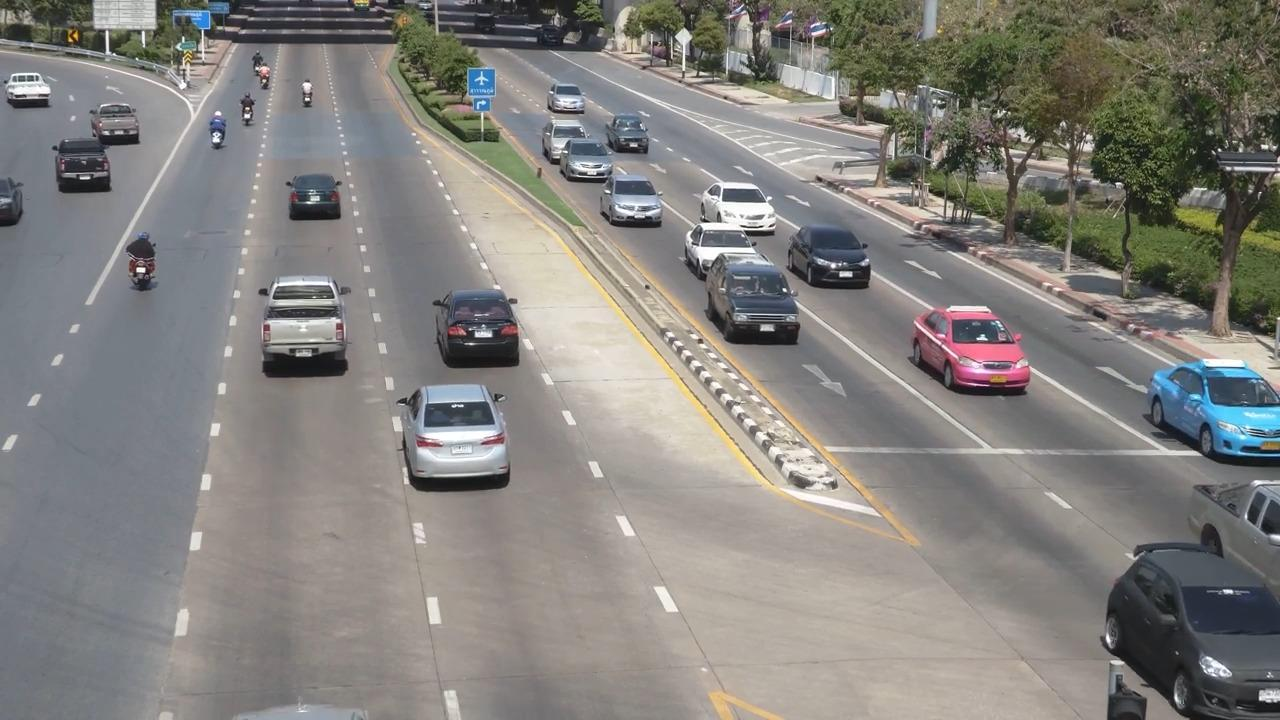CAR: (1083, 541, 1280, 720), (1135, 351, 1279, 473), (395, 379, 526, 502), (908, 293, 1037, 407), (249, 268, 356, 387), (426, 272, 536, 371), (775, 214, 885, 292), (703, 255, 799, 342), (41, 127, 118, 203), (692, 170, 774, 239), (276, 161, 348, 236), (680, 209, 754, 269), (598, 169, 665, 233), (8, 61, 63, 121), (554, 135, 613, 188), (85, 93, 145, 144), (600, 111, 659, 162), (536, 115, 589, 162), (543, 80, 594, 123)
MOTOR: (114, 222, 166, 294), (225, 87, 269, 138), (291, 69, 327, 130), (249, 52, 286, 102), (198, 110, 231, 148)
